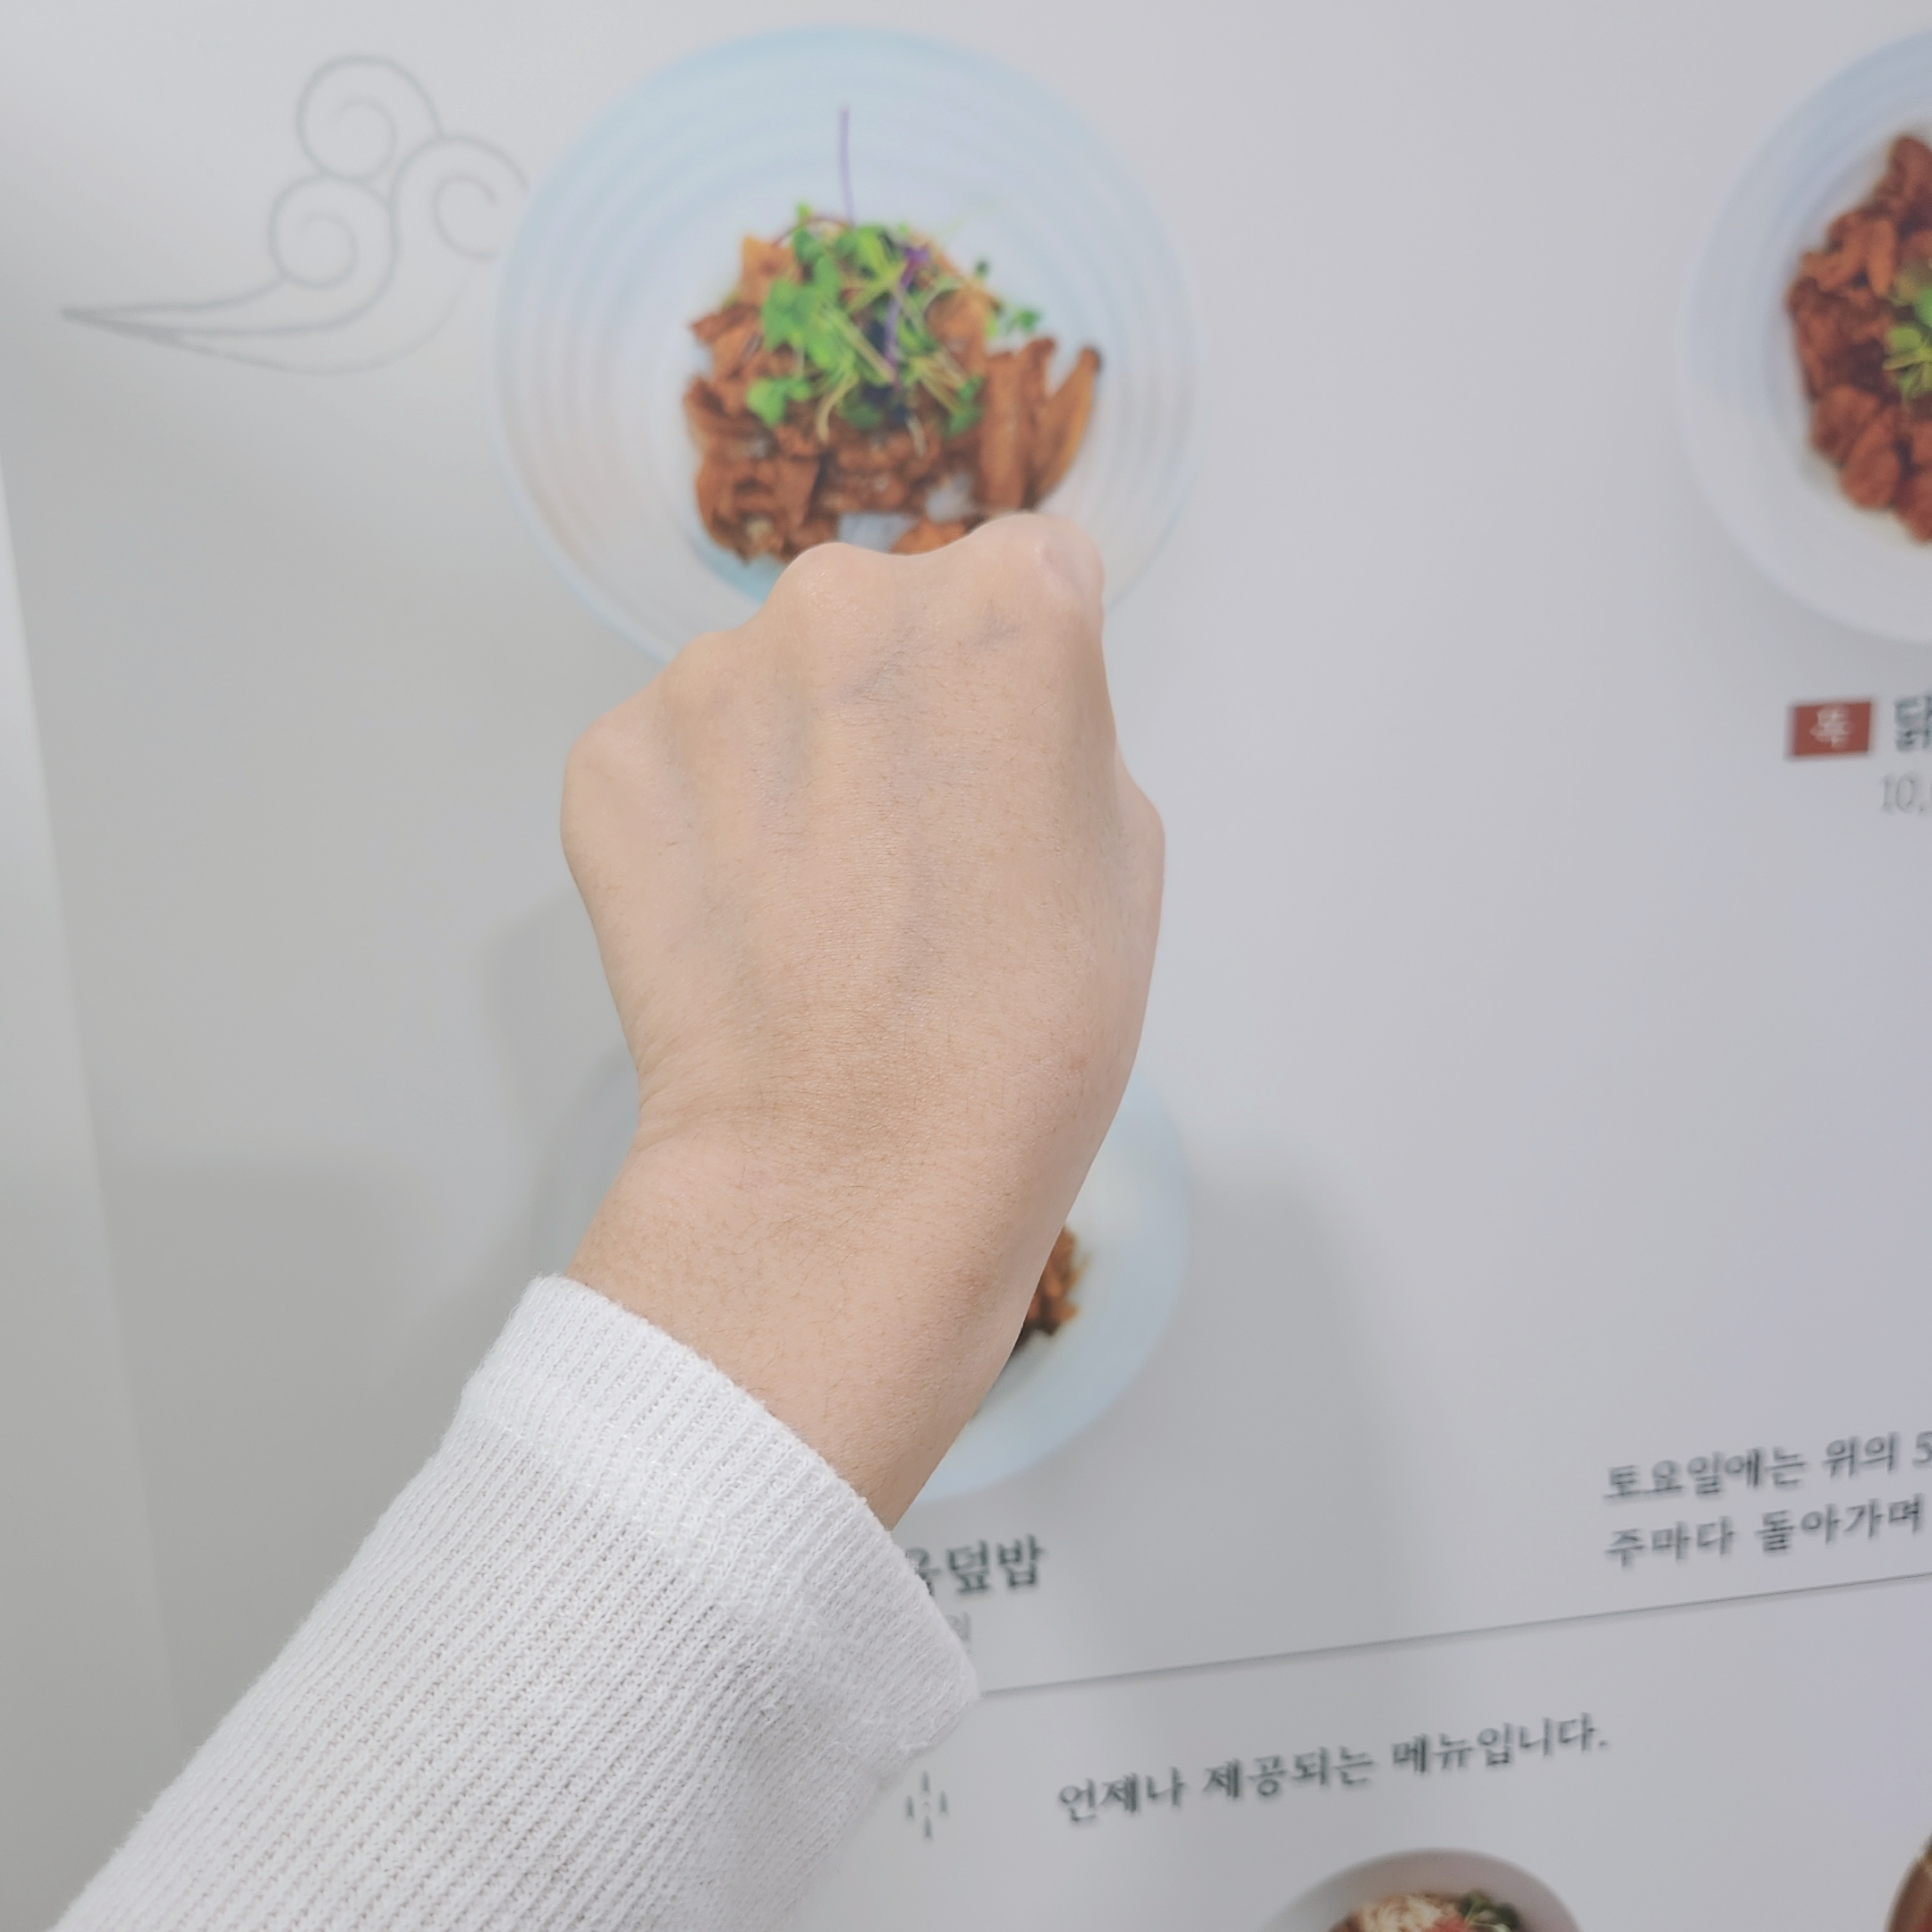smile: (551, 503, 1174, 1224)
